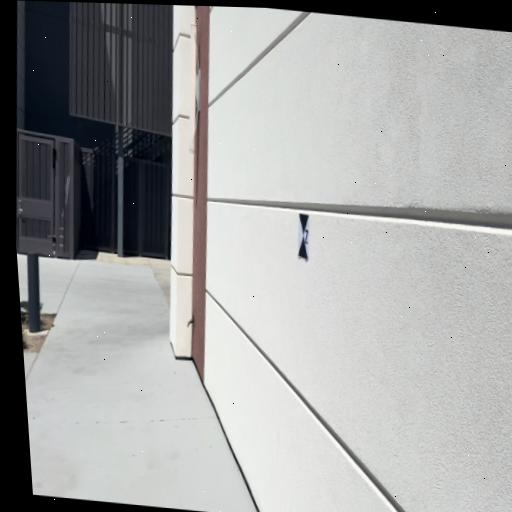target7: (299, 212, 310, 261)
